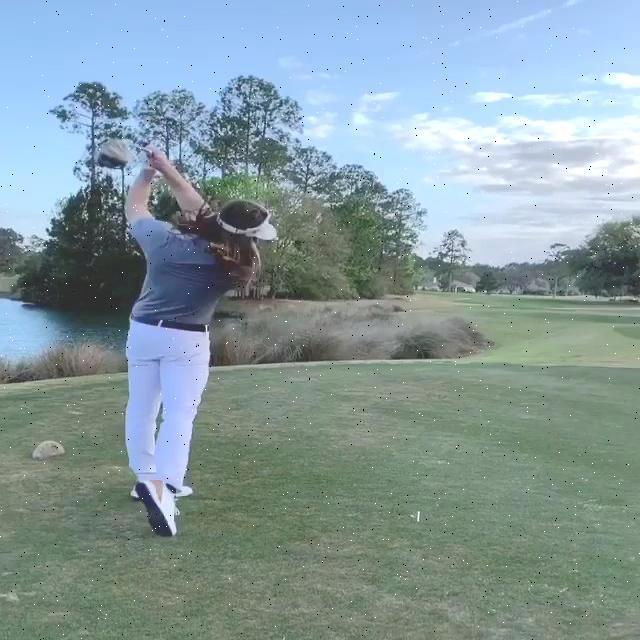ClubHead: (94, 139, 129, 166)
